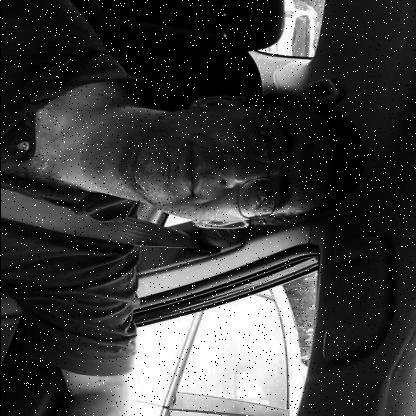seatbelt: (0, 91, 368, 292)
